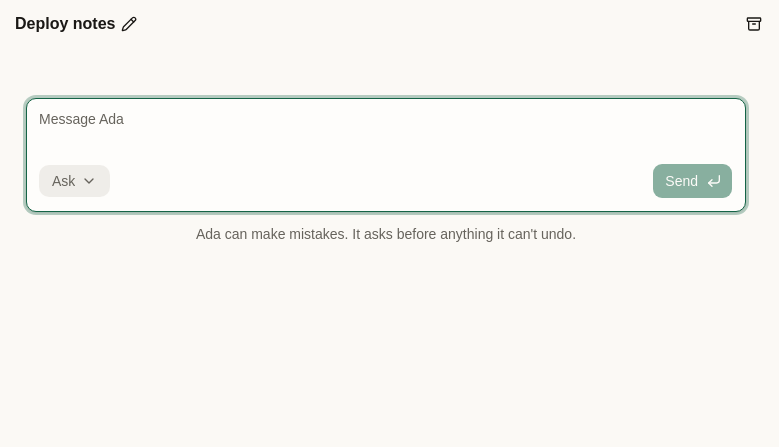
Test: a thread's panel › the mode › pins the mode picked and shows it once the instance lists it
The image size is (779, 447).
Click the dropdown named "Mode". click: (75, 181)
box: [39, 165, 110, 197]
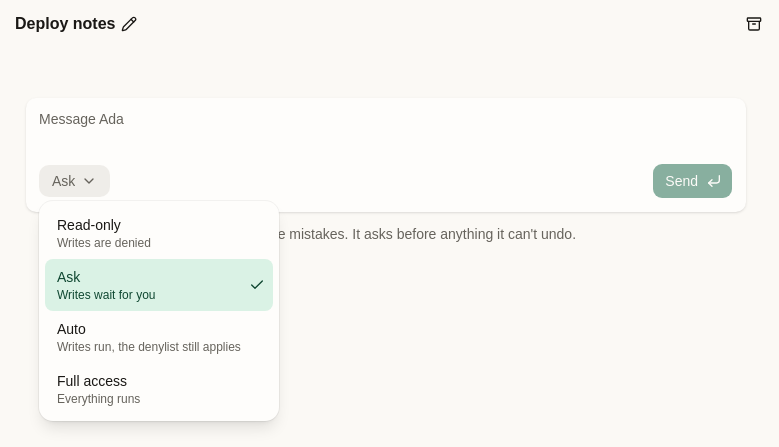
Click the option "Read-only Writes are denied". click: (104, 234)
box: [57, 217, 151, 250]
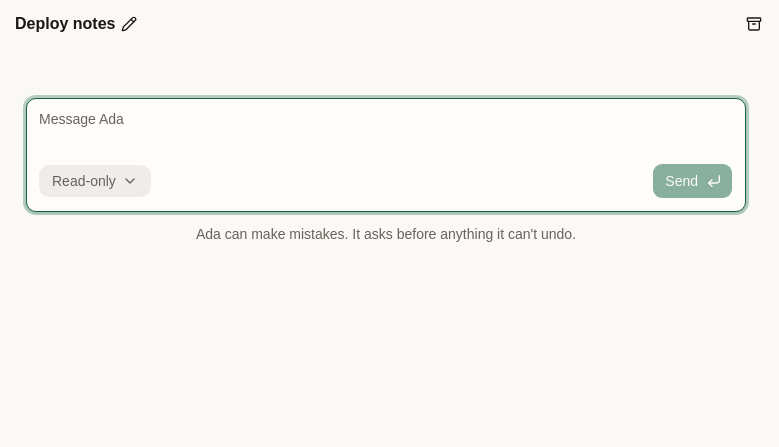
Check: the dropdown named "Mode" shows "Read-only", box [39, 165, 151, 197]
